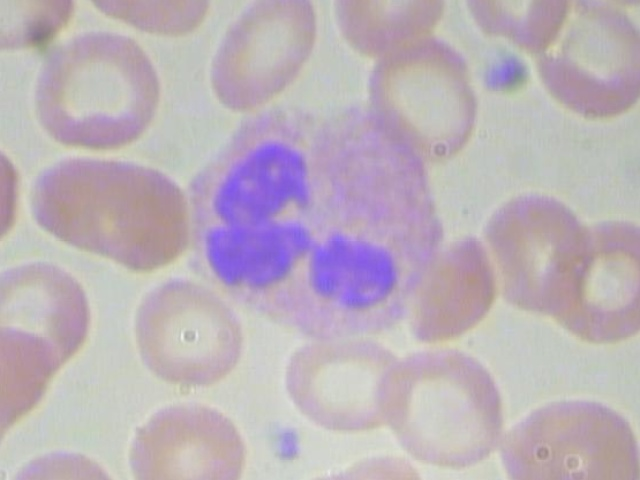Platelets: (468, 41, 534, 101), (264, 418, 312, 473)
RBC: (9, 140, 192, 278), (470, 172, 606, 327), (10, 27, 164, 159), (380, 337, 524, 472), (357, 26, 484, 168), (275, 328, 417, 439), (516, 0, 640, 123), (115, 276, 245, 392), (207, 0, 326, 121), (494, 383, 640, 480), (544, 208, 640, 348), (115, 399, 254, 480), (0, 254, 93, 374), (0, 0, 75, 60), (0, 127, 28, 263)
WBC: (163, 98, 468, 349)
